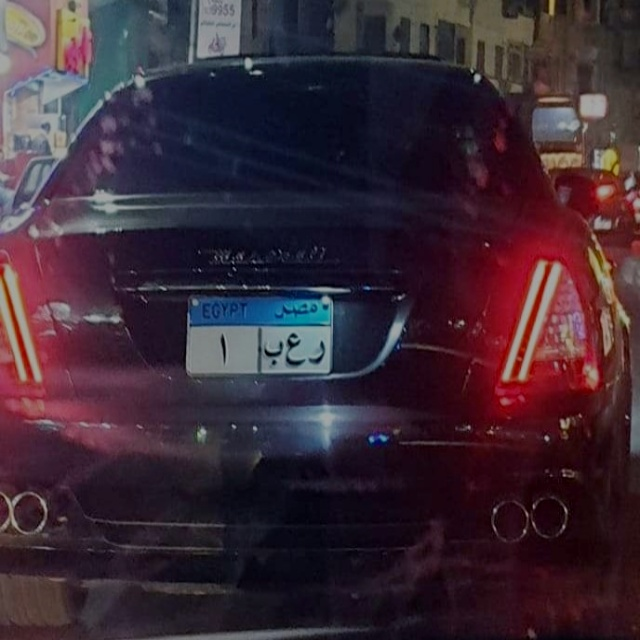License Plate: (182, 289, 337, 381)
